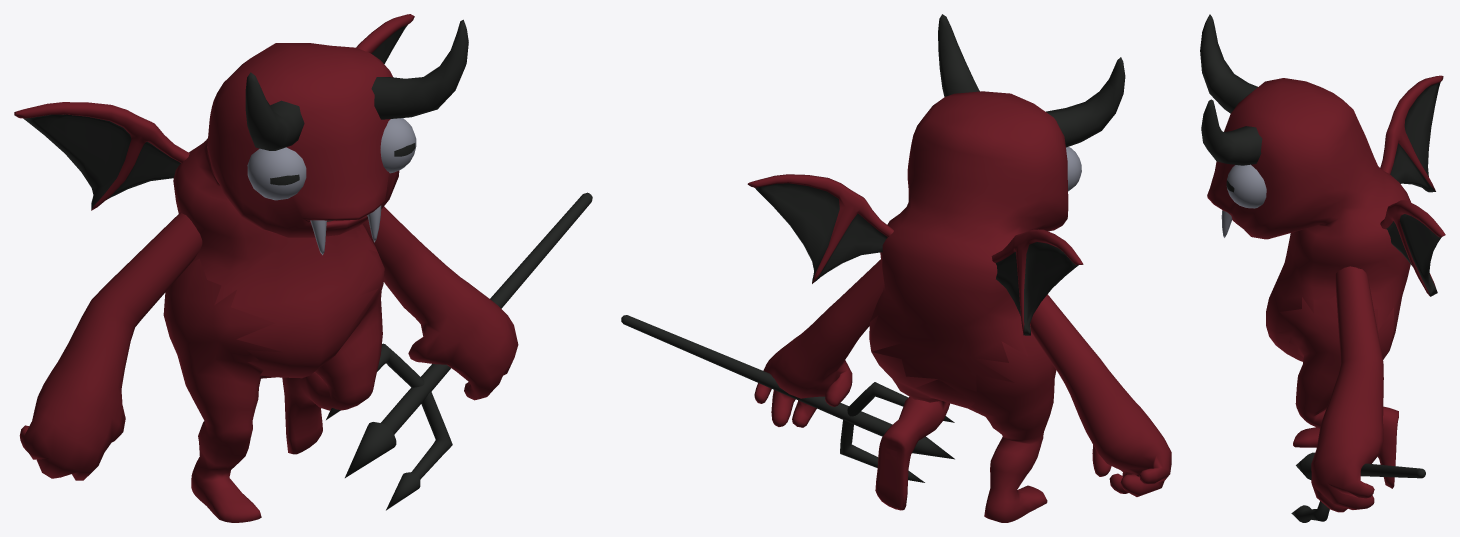
The model's file is oni_lord.glb.
The picture shows the model from 3 angles, left to right: view 1: azimuth 30°, elevation 25°; view 2: azimuth 150°, elevation 25°; view 3: azimuth 270°, elevation 25°; orthographic projection. The views are drawn at different scales.
Visible parts, largest first — view 1: Body, ArmL, ArmR, LegR, LegL; view 2: Body, ArmL, ArmR, LegR, LegL; view 3: Body, ArmL, LegL, LegR.
Part boxes in pixels (x1=…): Body: x1=14, y1=14, x2=468, y2=378; ArmL: x1=326, y1=192, x2=592, y2=510; ArmR: x1=19, y1=212, x2=202, y2=480; LegR: x1=163, y1=258, x2=284, y2=522; LegL: x1=282, y1=224, x2=384, y2=454; Body: x1=747, y1=14, x2=1125, y2=416; ArmL: x1=621, y1=259, x2=954, y2=482; ArmR: x1=1030, y1=294, x2=1171, y2=496; LegR: x1=939, y1=332, x2=1056, y2=522; LegL: x1=869, y1=315, x2=949, y2=510; Body: x1=1200, y1=14, x2=1445, y2=361; ArmL: x1=1291, y1=266, x2=1425, y2=522; LegL: x1=1277, y1=295, x2=1398, y2=488; LegR: x1=1293, y1=427, x2=1319, y2=447.
Size of the model in its own units: 3.43 by 2.79 by 1.46.
